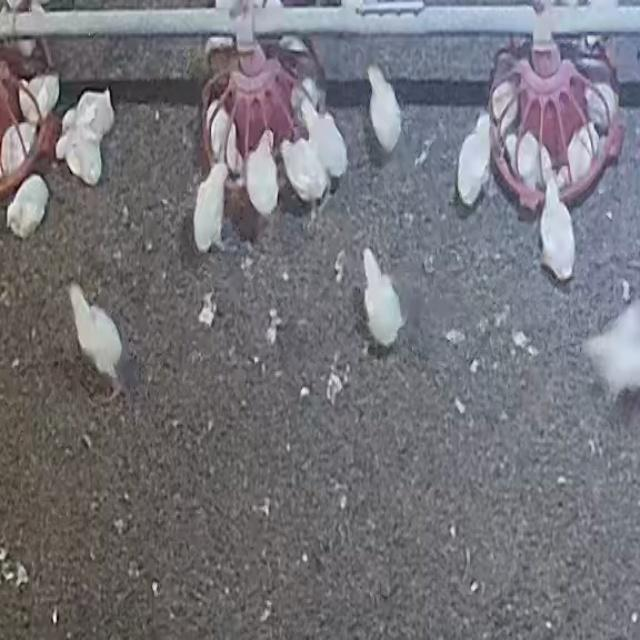chicken: (65, 278, 126, 409), (582, 294, 640, 411), (361, 248, 403, 348), (539, 170, 575, 280), (279, 129, 327, 210), (306, 97, 348, 185), (367, 61, 404, 156), (2, 173, 55, 239), (455, 113, 493, 205), (192, 162, 230, 254), (245, 130, 280, 219), (1, 0, 49, 64), (57, 129, 103, 188), (62, 90, 119, 134), (1, 122, 39, 180), (18, 74, 60, 124), (565, 126, 595, 186), (584, 82, 616, 137), (208, 99, 234, 166), (515, 132, 542, 190), (494, 77, 517, 141)
